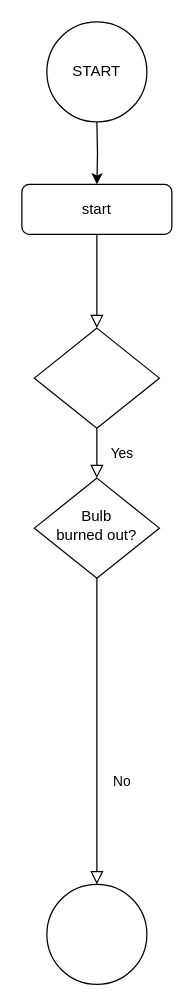
Some shapes in this 194 by 1006 pixel diagram are drawn without their labels. The box of each missing label's shape, as (x1, y1, x2, y2) in pixels:
END: (46, 883, 147, 984)
Lamp plugged in?: (33, 327, 159, 428)
